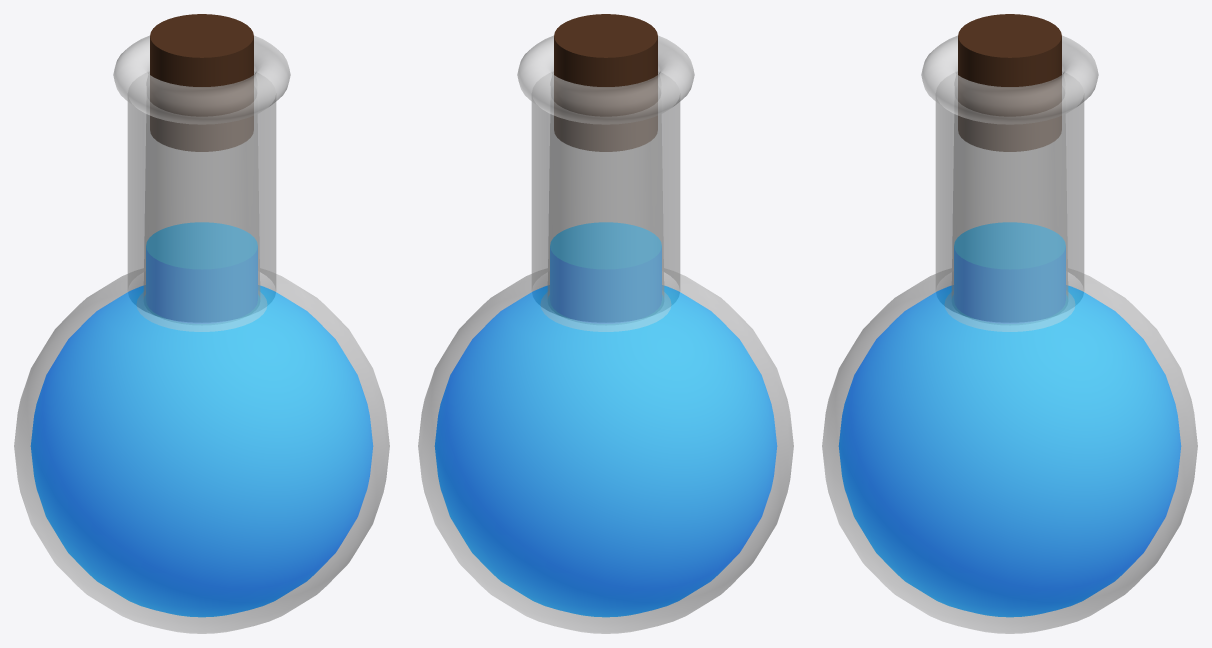
File: ManaPotion.fbx
The picture shows the model from 3 angles, left to right: view 1: azimuth 30°, elevation 25°; view 2: azimuth 150°, elevation 25°; view 3: azimuth 270°, elevation 25°; orthographic projection.
Parts seen in each view (by area): view 1: Bottle, Liquid, Cork; view 2: Bottle, Liquid, Cork; view 3: Bottle, Liquid, Cork.
Boxes of the visible parts, box(x1,y1,x2,y2) form: Bottle: box(14, 35, 389, 633); Liquid: box(30, 222, 373, 617); Cork: box(150, 14, 253, 151); Bottle: box(418, 35, 793, 633); Liquid: box(434, 222, 777, 617); Cork: box(554, 14, 657, 151); Bottle: box(822, 35, 1197, 633); Liquid: box(838, 222, 1181, 617); Cork: box(958, 14, 1061, 151).
Bounding box in the file's own units: 200 × 341 × 200.
